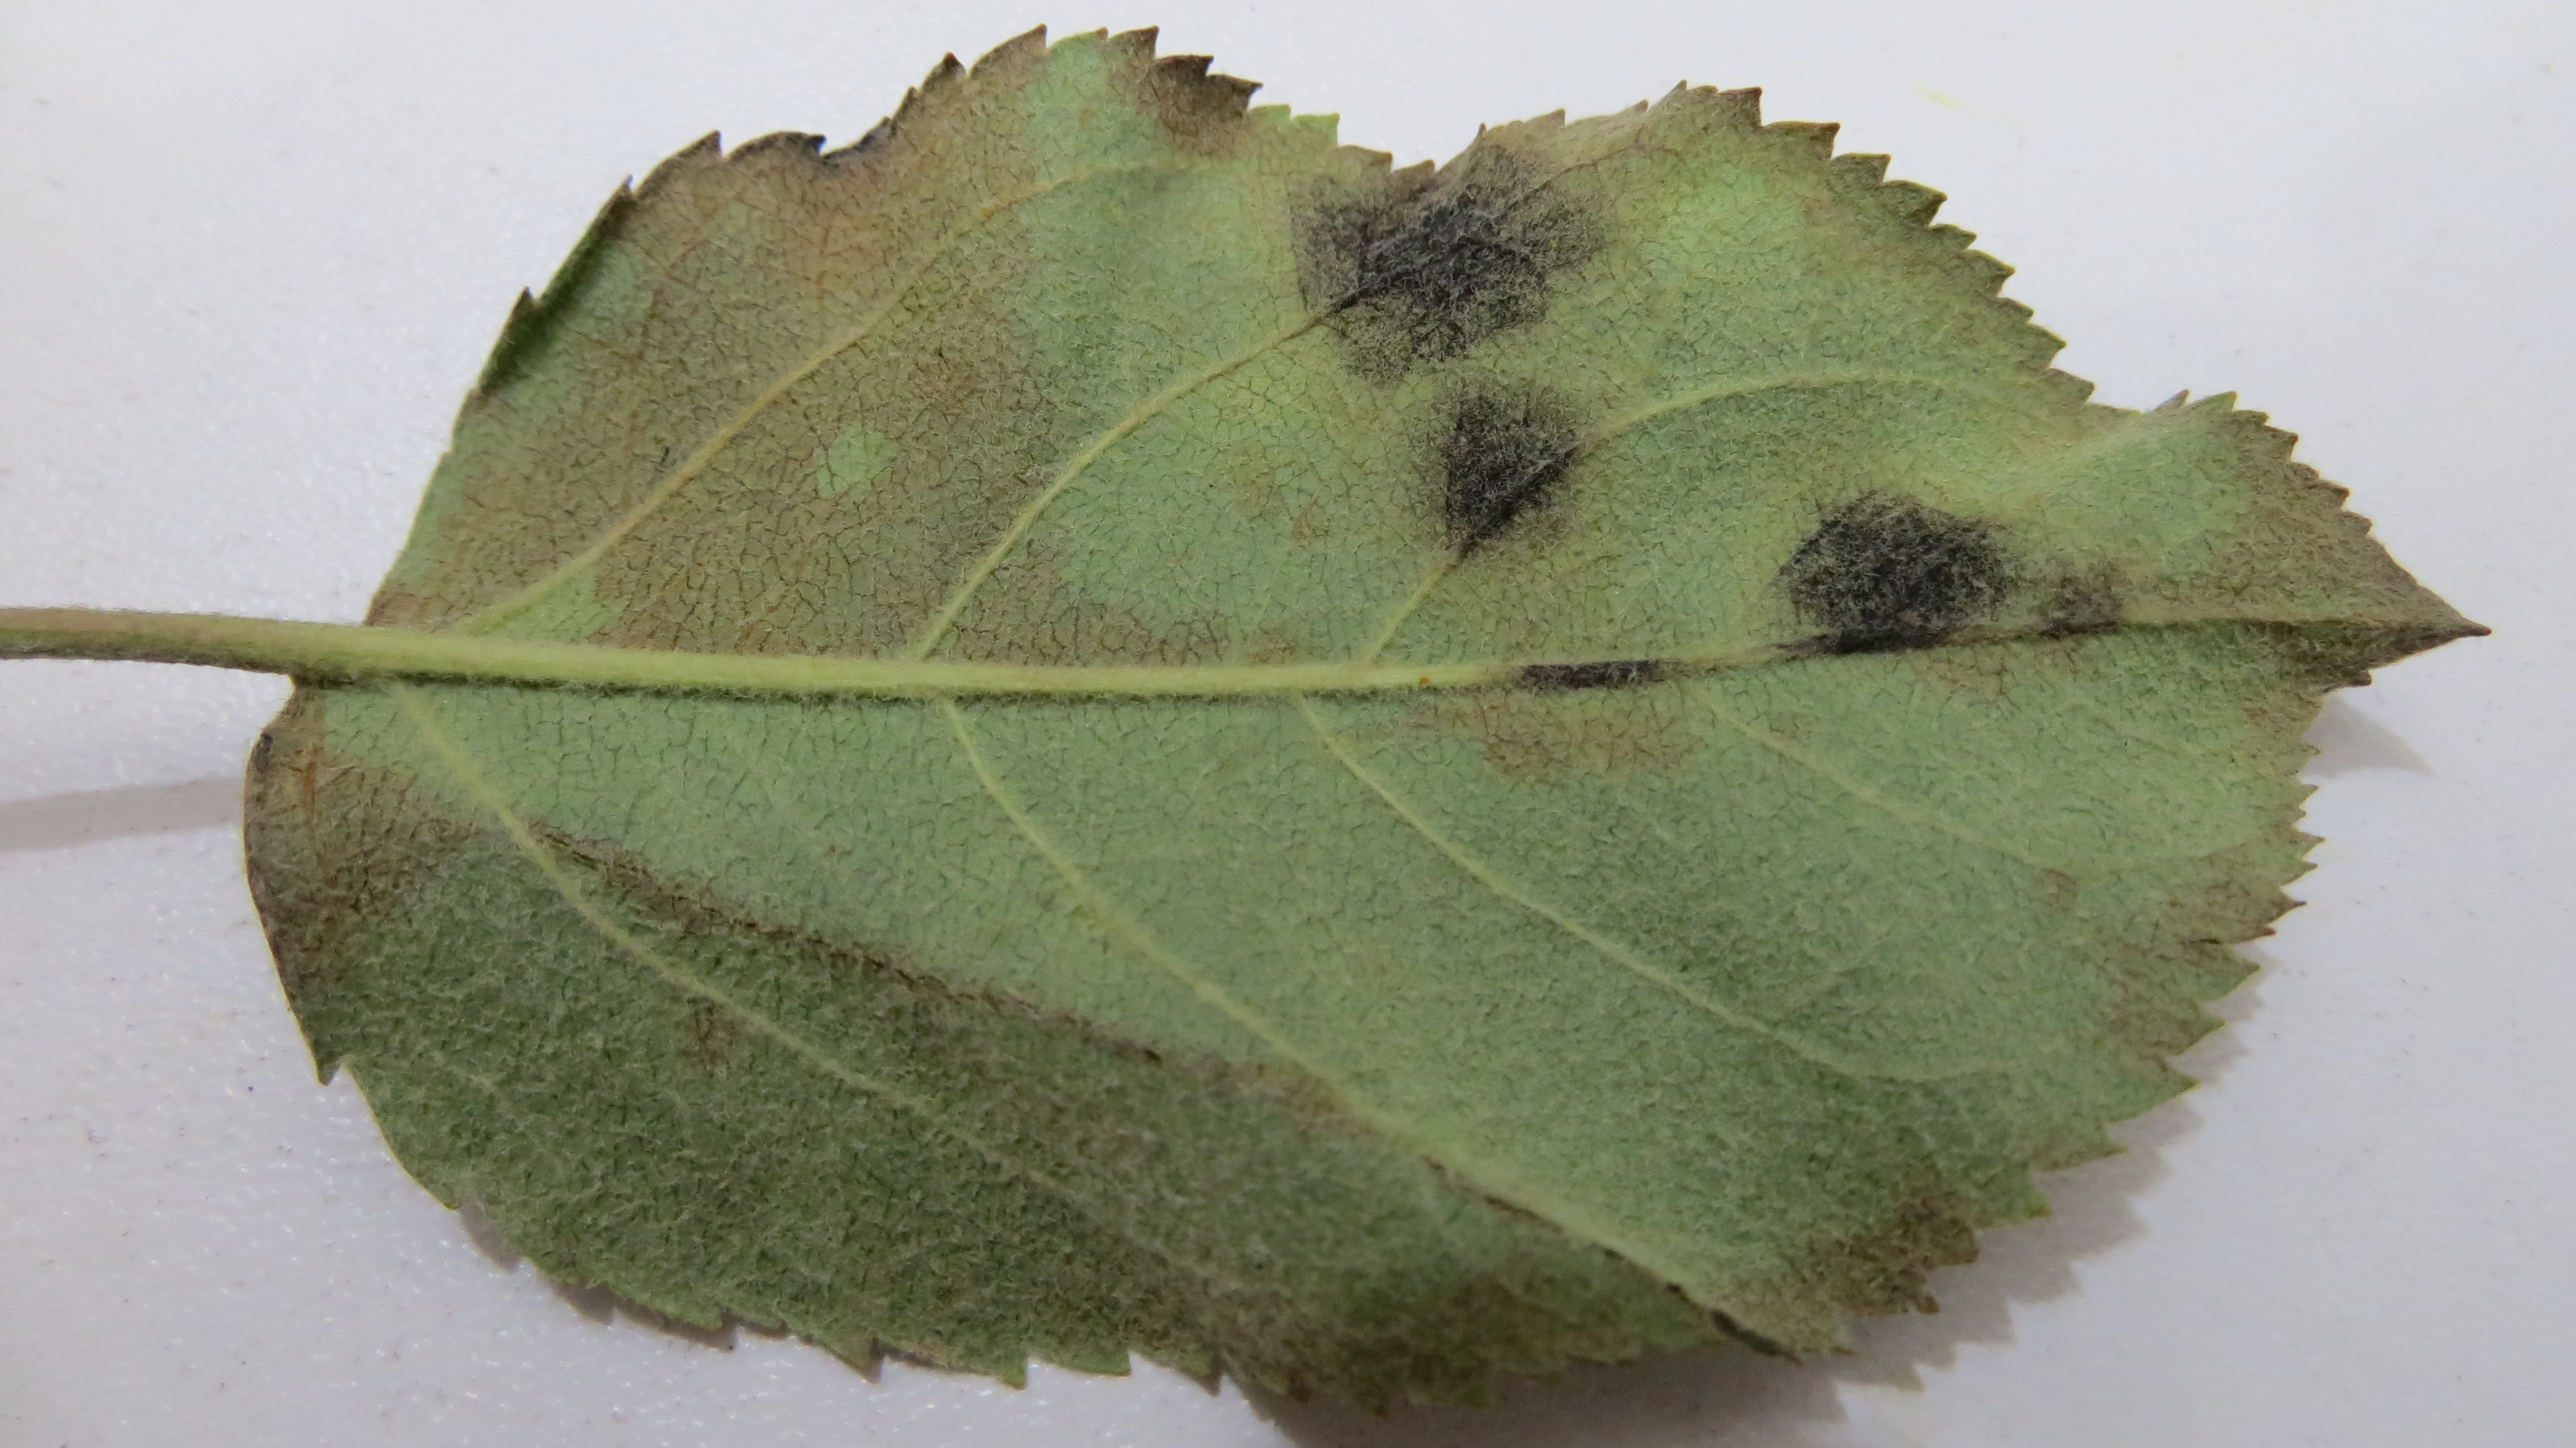sarna: (1276, 133, 1605, 374), (1776, 478, 2008, 659), (1401, 375, 1591, 558), (2020, 538, 2128, 648)
